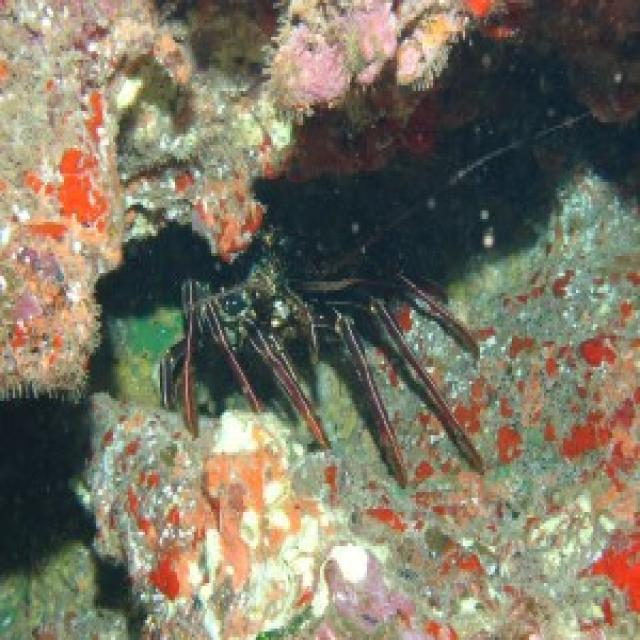lobsters: (126, 158, 577, 522)
